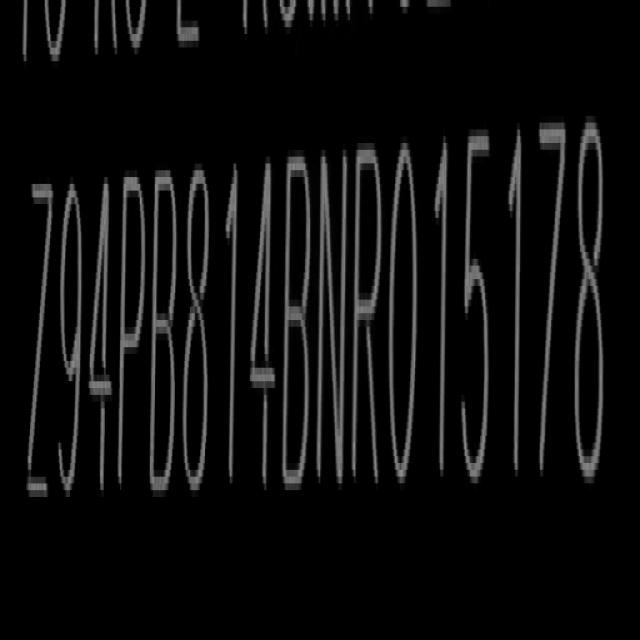0: (391, 134, 423, 492)
1: (507, 115, 527, 497), (431, 129, 452, 492), (224, 155, 242, 498)
4: (248, 152, 279, 502), (89, 174, 115, 510)
5: (460, 115, 492, 494)
7: (538, 110, 570, 494)
8: (574, 112, 609, 489), (187, 159, 214, 502)
9: (57, 178, 85, 512)
B: (286, 140, 318, 498), (150, 163, 181, 508)
N: (318, 142, 349, 496)
P: (118, 170, 148, 506)
R: (351, 137, 386, 495)
Z: (22, 175, 53, 518)
